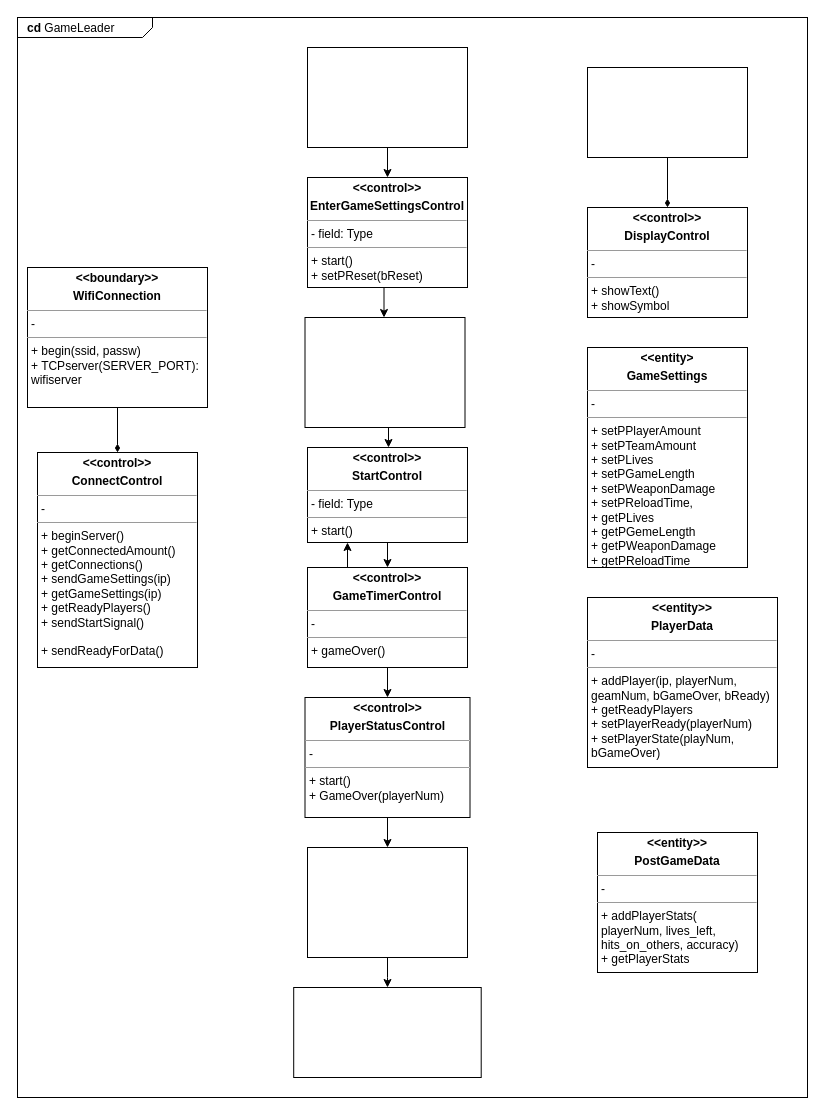
Some shapes in this 825 by 1115 pixel diagram are drawn without their labels. Each missing label, with the centre of its shape:
<<boundary>> Display - + PutPixel(x,y): the point at 667,112
<<control>> AnalyzeAndDisplayStatsControl - + start(): the point at 387,1032
<<control>> PlayerSetupControl - + start() + queryGameSettings(ip): the point at 384,372
<<control>> ReceivePostGameData + field: Type + start() + receivePostGameData: the point at 387,902
<<control>> SetupControl - +: the point at 387,97
